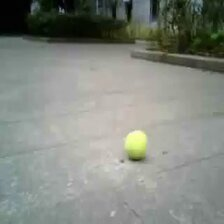tennis: (126, 130, 148, 159)
